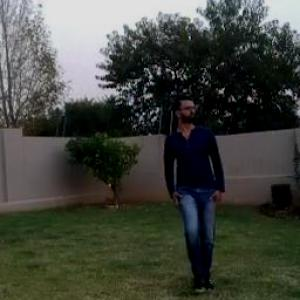follow: (159, 88, 230, 292)
